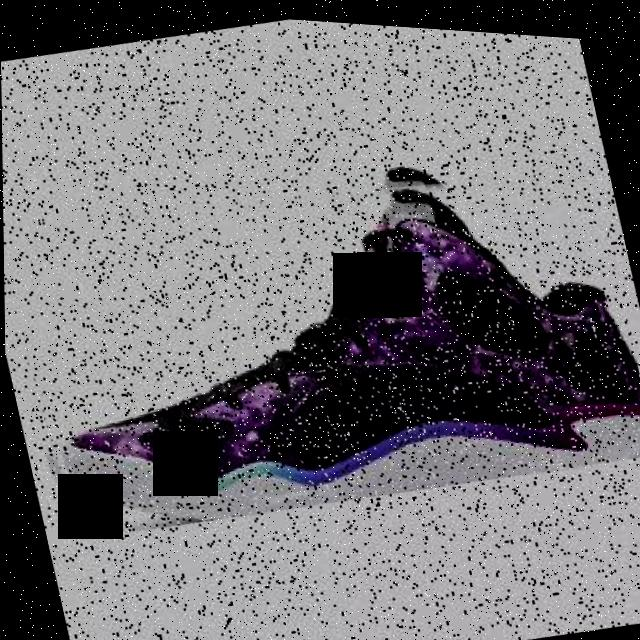shoe: (1, 98, 640, 573)
